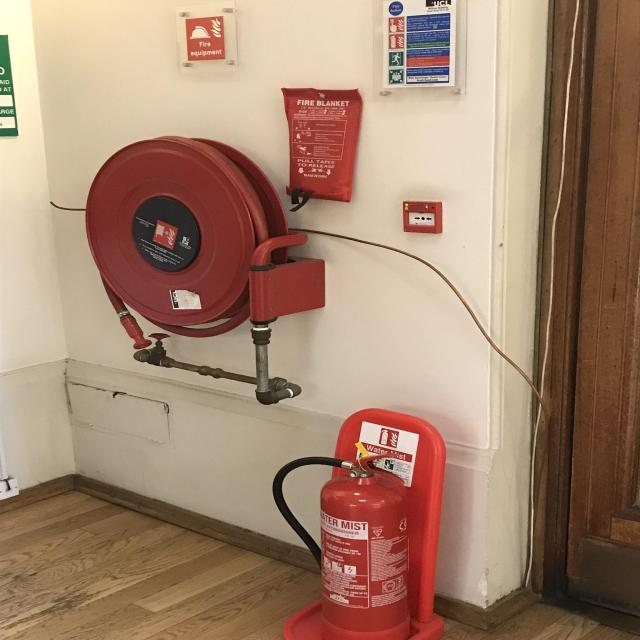fire_extinguisher: (268, 445, 417, 640)
